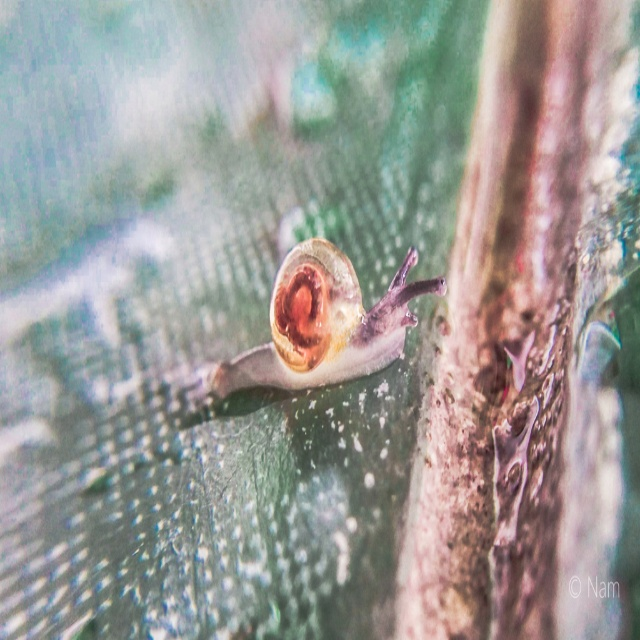Snail: (212, 231, 454, 406)
